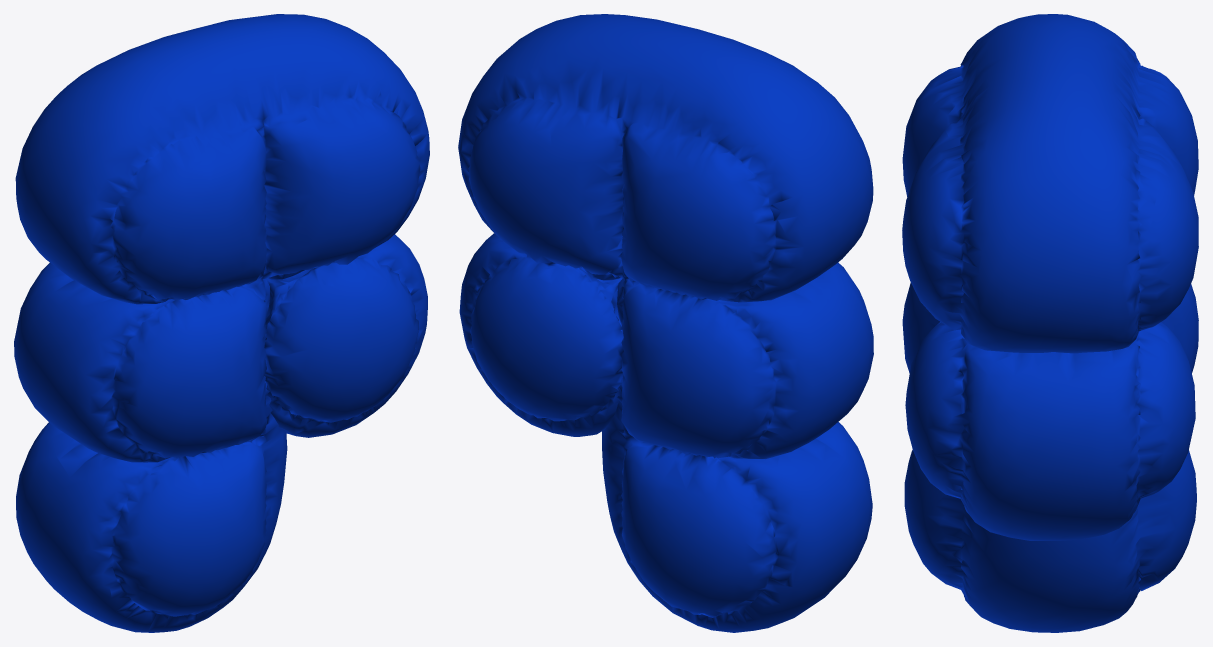
File: balloon.glb
3 renders of one model, left to right at view 1: azimuth 30°, elevation 25°; view 2: azimuth 150°, elevation 25°; view 3: azimuth 270°, elevation 25°, orthographic. The views are drawn at different scales.
Parts seen in each view (by area): view 1: F_Low; view 2: F_Low; view 3: F_Low.
Boxes of the visible parts, x1=… form: F_Low: x1=14, y1=14, x2=429, y2=632; F_Low: x1=458, y1=14, x2=873, y2=632; F_Low: x1=902, y1=14, x2=1198, y2=632.
Size of the model in its own units: 0.4193 by 0.6094 by 0.2694.
